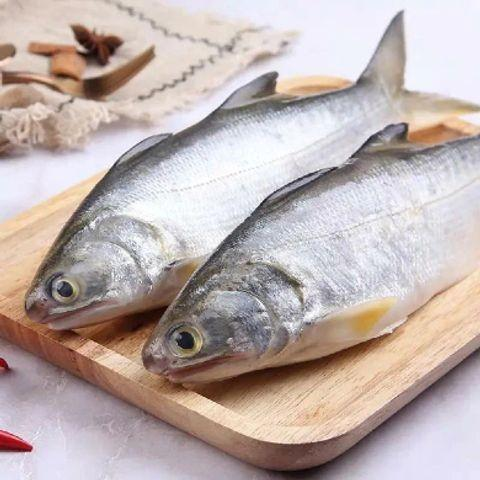Fourfinger Threadfish: (25, 13, 480, 332), (136, 82, 480, 425)
